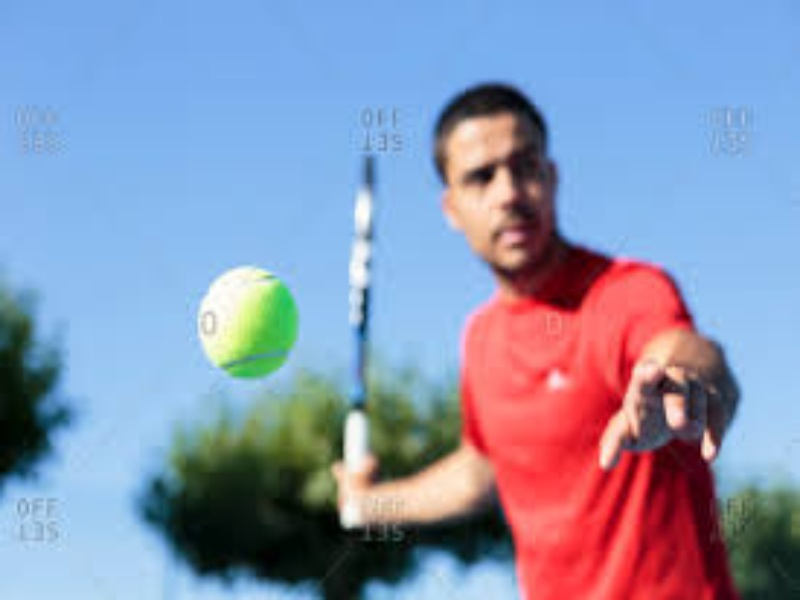tennis ball: (178, 256, 355, 414)
